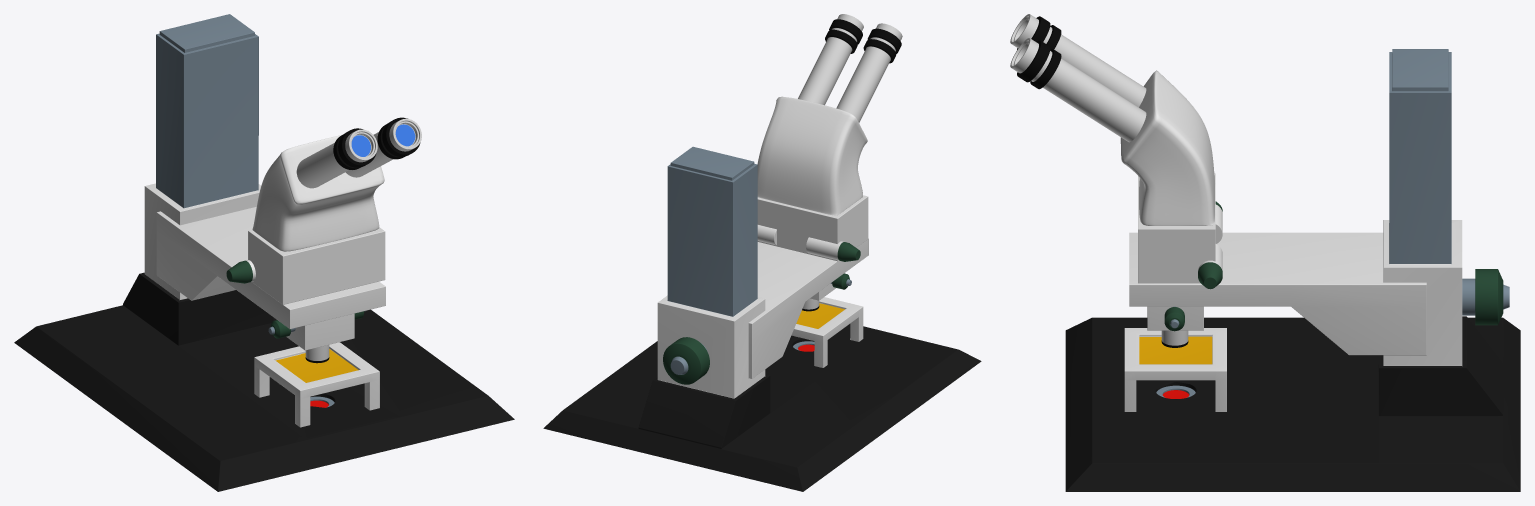
Rendered from Microscope.fbx.
The picture shows the model from 3 angles, left to right: view 1: azimuth 30°, elevation 25°; view 2: azimuth 150°, elevation 25°; view 3: azimuth 270°, elevation 25°; orthographic projection. The views are drawn at different scales.
Parts seen in each view (by area): view 1: Microscope_Base; view 2: Microscope_Base; view 3: Microscope_Base.
Part boxes in pixels (x1,y1,x2,y2): Microscope_Base: [14, 14, 514, 491]; Microscope_Base: [543, 14, 981, 491]; Microscope_Base: [1010, 14, 1520, 491].
Bounding box in the file's own units: 984 × 1087 × 1313.
